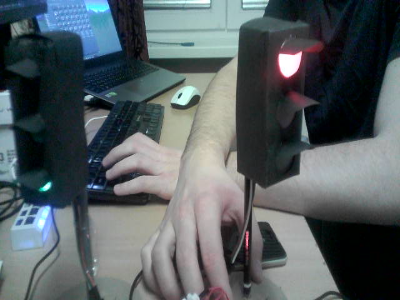trafficlight_green: (15, 39, 62, 202)
trafficlight_red: (266, 30, 307, 180)
